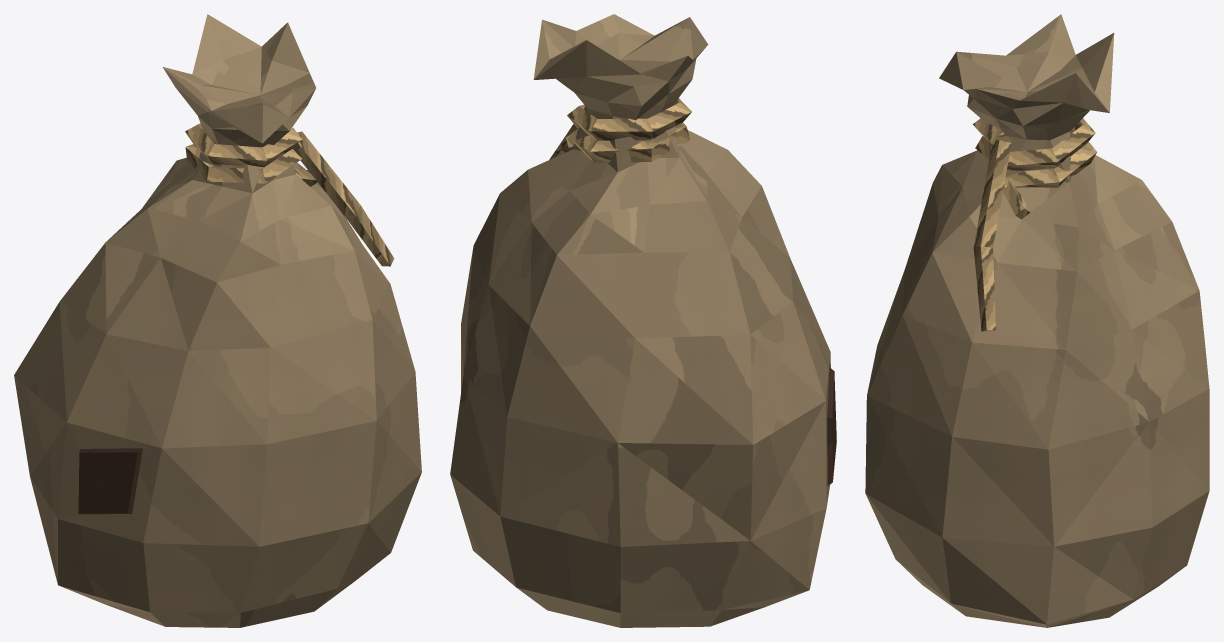
File: SM_SupplySack.fbx
3 views of the same model, side by side, from view 1: azimuth 30°, elevation 25°; view 2: azimuth 150°, elevation 25°; view 3: azimuth 270°, elevation 25° (orthographic). The views are drawn at different scales.
Parts seen in each view (by area): view 1: SM_SupplySack; view 2: SM_SupplySack; view 3: SM_SupplySack.
Boxes of the visible parts, x1=… form: SM_SupplySack: x1=14, y1=14, x2=421, y2=627; SM_SupplySack: x1=450, y1=14, x2=836, y2=627; SM_SupplySack: x1=865, y1=14, x2=1209, y2=627.
Size of the model in its own units: 0.4827 by 0.7194 by 0.4111.
